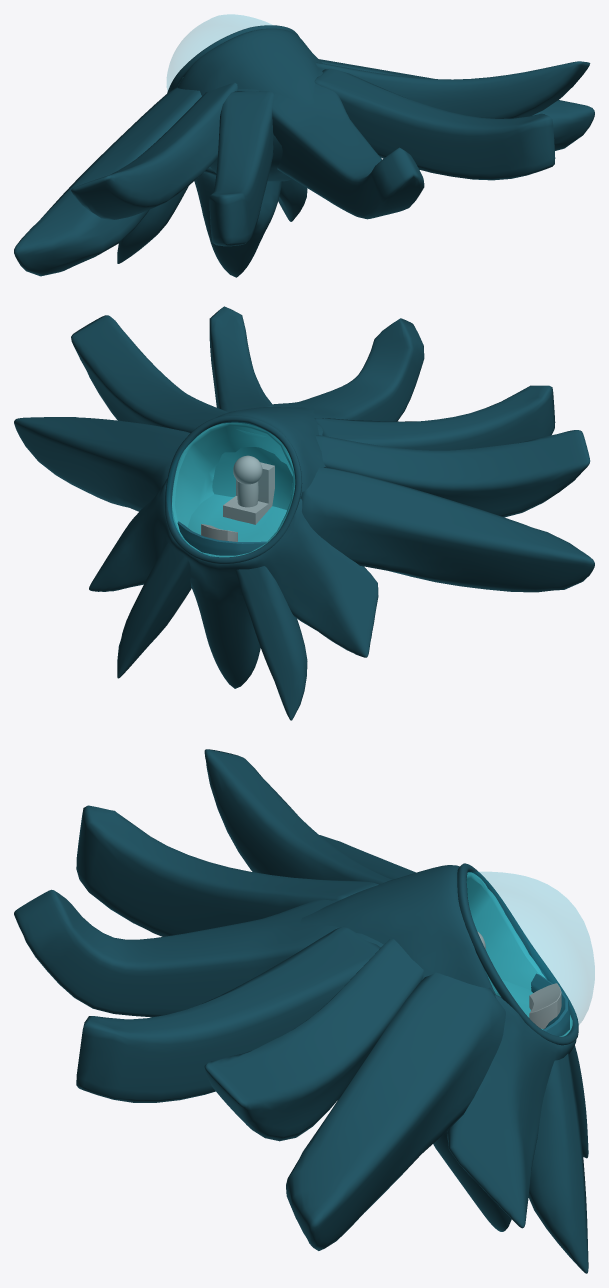
File: cockpit blockout.fbx
3 views of the same model, one above another, from view 1: azimuth 30°, elevation 25°; view 2: azimuth 150°, elevation 25°; view 3: azimuth 270°, elevation 25° (orthographic). The views are drawn at different scales.
Visible parts, largest first — view 1: Wing_5_1, Wing_4_1, wing_back1, Wing_3_1, Back_case1_1, front_piece1, Wing_front_1, cabin1, cabin_rim; view 2: Wing_3_1, Wing_4_1, front_piece1, Wing_5_1, Wing_front_1, wing_back1, cockpit_inside, cabin_rim, Back_case1_1, cockpit_wall, cockpit_ground, chair_blockout (+2 smaller); view 3: Wing_5_1, Wing_3_1, Wing_4_1, wing_back1, front_piece1, Back_case1_1, Wing_front_1, cabin1, cockpit_inside, cabin_rim, console_blockout, cockpit_divider.
Boxes of the visible parts, x1=… form: Wing_5_1: x1=209, y1=68, x2=555, y2=246; Wing_4_1: x1=71, y1=61, x2=590, y2=220; wing_back1: x1=236, y1=69, x2=424, y2=219; Wing_3_1: x1=14, y1=59, x2=594, y2=276; Back_case1_1: x1=177, y1=28, x2=321, y2=181; front_piece1: x1=194, y1=167, x2=282, y2=277; Wing_front_1: x1=117, y1=179, x2=307, y2=263; cabin1: x1=167, y1=14, x2=271, y2=90; cabin_rim: x1=167, y1=25, x2=299, y2=93; Wing_3_1: x1=14, y1=417, x2=594, y2=592; Wing_4_1: x1=71, y1=315, x2=590, y2=517; front_piece1: x1=89, y1=479, x2=378, y2=688; Wing_5_1: x1=209, y1=306, x2=555, y2=450; Wing_front_1: x1=117, y1=542, x2=307, y2=720; wing_back1: x1=273, y1=318, x2=424, y2=435; cockpit_inside: x1=172, y1=422, x2=295, y2=557; cabin_rim: x1=164, y1=415, x2=302, y2=564; Back_case1_1: x1=216, y1=407, x2=325, y2=498; cockpit_wall: x1=212, y1=429, x2=292, y2=509; cockpit_ground: x1=188, y1=494, x2=286, y2=541; chair_blockout: x1=223, y1=462, x2=274, y2=524; Wing_5_1: x1=76, y1=805, x2=380, y2=1102; Wing_3_1: x1=286, y1=835, x2=505, y2=1250; Wing_4_1: x1=204, y1=749, x2=423, y2=1141; wing_back1: x1=14, y1=889, x2=383, y2=1017; front_piece1: x1=433, y1=966, x2=576, y2=1231; Back_case1_1: x1=300, y1=865, x2=495, y2=994; Wing_front_1: x1=528, y1=1045, x2=588, y2=1273; cabin1: x1=469, y1=872, x2=594, y2=1030; cockpit_inside: x1=466, y1=872, x2=572, y2=1036; cabin_rim: x1=457, y1=863, x2=578, y2=1045; console_blockout: x1=529, y1=983, x2=561, y2=1028; cockpit_divider: x1=531, y1=973, x2=569, y2=1036.
Bounding box in the file's own units: 1659 × 712 × 1051.
